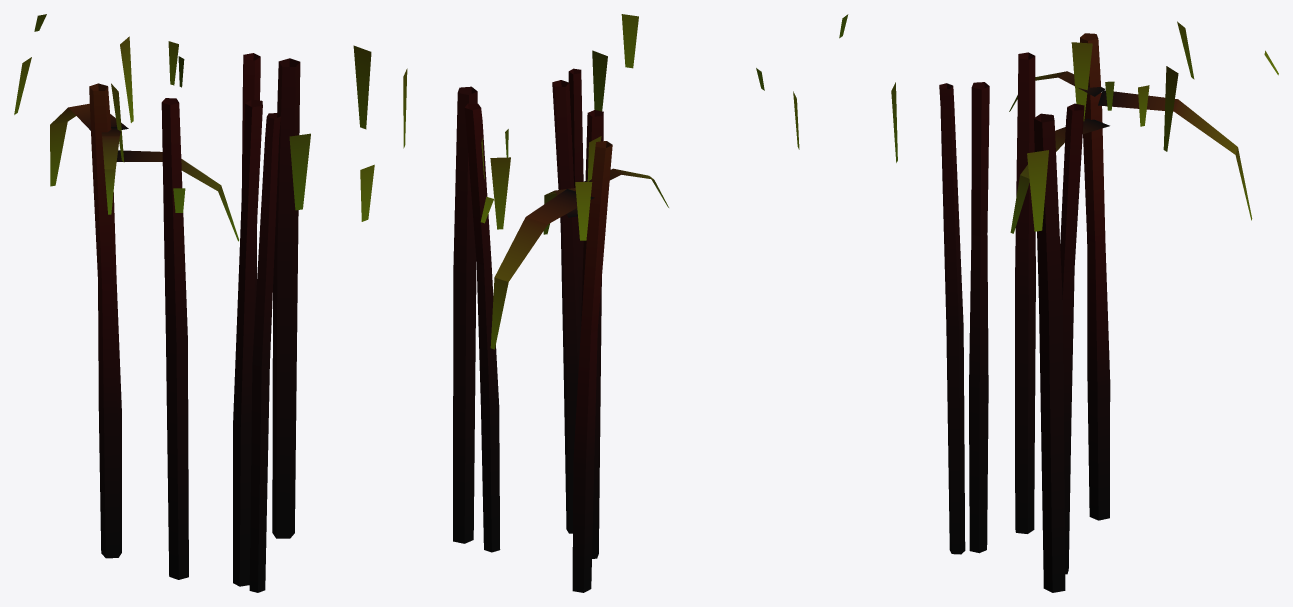
The model's file is bamboo_a_low.glb.
3 renders of one model, left to right at view 1: azimuth 30°, elevation 25°; view 2: azimuth 150°, elevation 25°; view 3: azimuth 270°, elevation 25°, orthographic. The views are drawn at different scales.
Parts seen in each view (by area): view 1: bamboo_a_low; view 2: bamboo_a_low; view 3: bamboo_a_low.
Part boxes in pixels (x1=…): bamboo_a_low: x1=14, y1=14, x2=374, y2=592; bamboo_a_low: x1=403, y1=14, x2=764, y2=592; bamboo_a_low: x1=793, y1=14, x2=1278, y2=592.
Size of the model in its own units: 1.02 by 1.61 by 1.5.
1 material, 1 textured.
